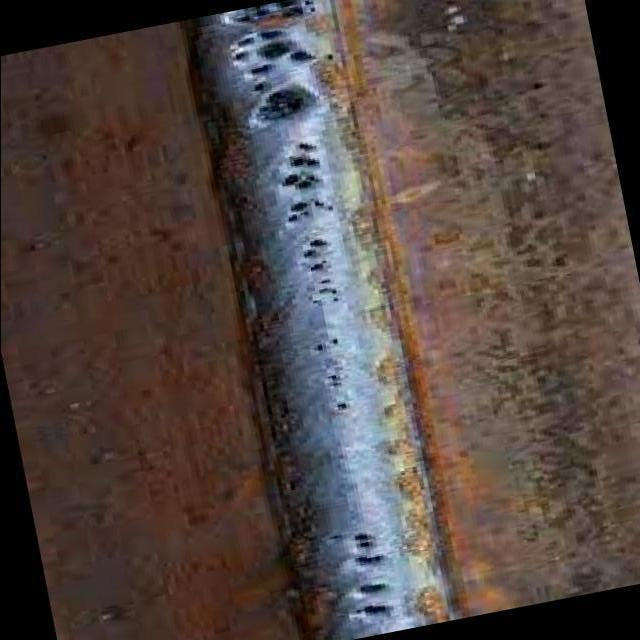defect: (276, 136, 335, 228), (227, 27, 317, 78), (217, 0, 323, 30), (245, 83, 317, 126), (317, 529, 394, 568), (350, 577, 400, 627), (293, 236, 340, 273), (297, 276, 351, 307), (310, 334, 343, 356), (318, 370, 345, 391), (329, 400, 361, 417)
